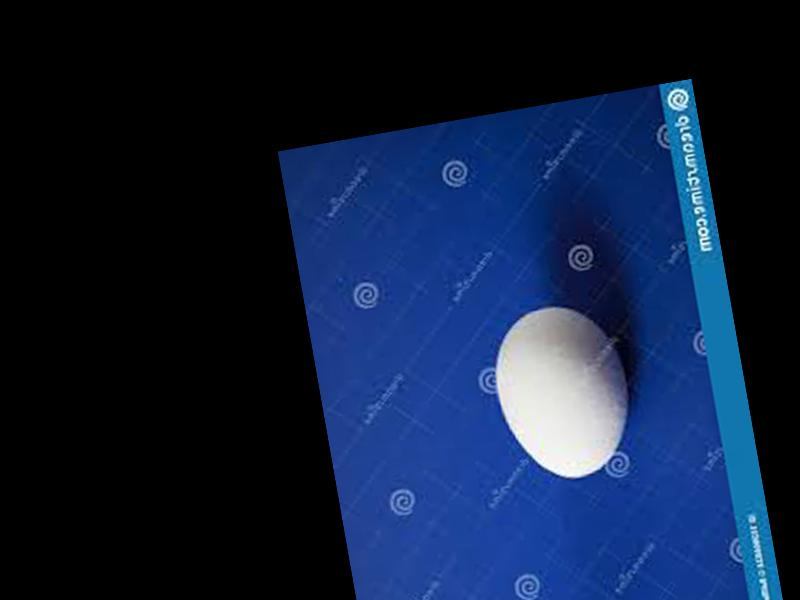Eggs: (485, 295, 641, 489)
